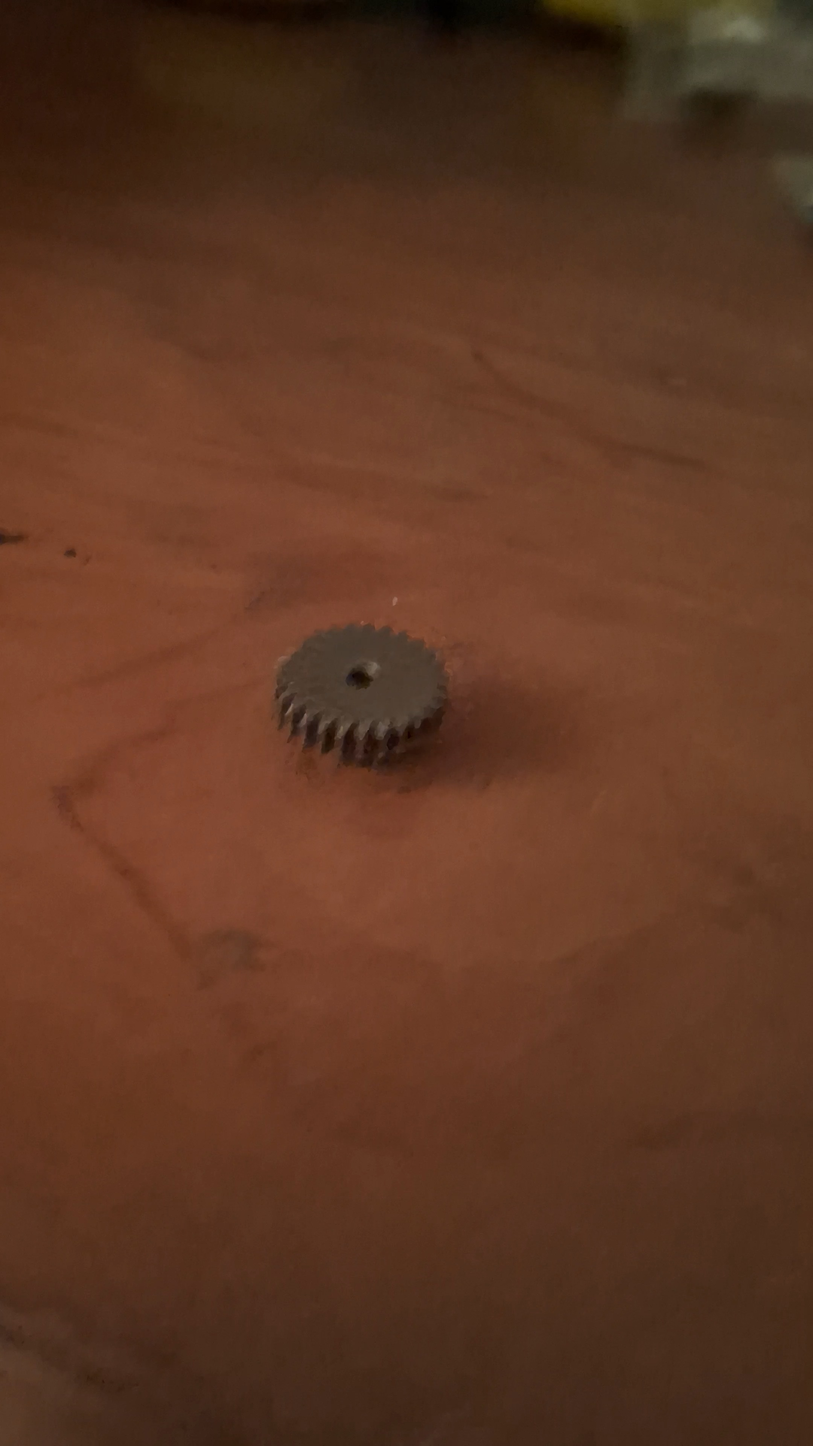spur gear: (275, 625, 447, 764)
